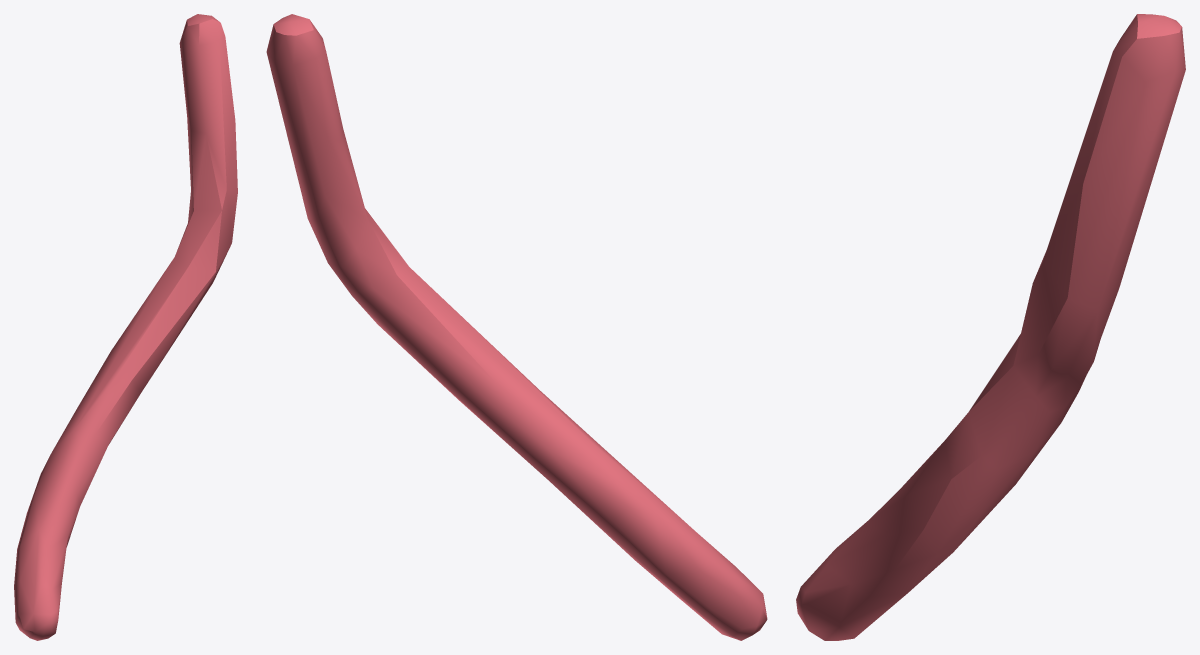
Rendered from fma79494_fj5133.glb.
The picture shows the model from 3 angles, left to right: view 1: azimuth 30°, elevation 25°; view 2: azimuth 150°, elevation 25°; view 3: azimuth 270°, elevation 25°; orthographic projection. The views are drawn at different scales.
Visible parts, largest first — view 1: FMA79494_FJ5133; view 2: FMA79494_FJ5133; view 3: FMA79494_FJ5133.
Part boxes in pixels (x1=…): FMA79494_FJ5133: x1=14, y1=14, x2=237, y2=640; FMA79494_FJ5133: x1=266, y1=14, x2=767, y2=640; FMA79494_FJ5133: x1=796, y1=14, x2=1185, y2=640.
Size of the model in its own units: 0.0122 by 0.0194 by 0.00822.
